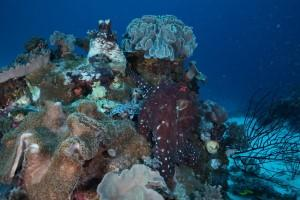bleached_corals: (123, 15, 198, 61), (97, 165, 165, 200)
